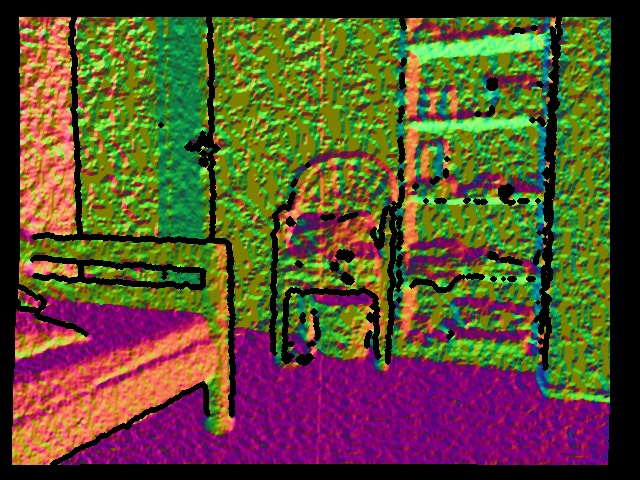station: (409, 139, 457, 199)
